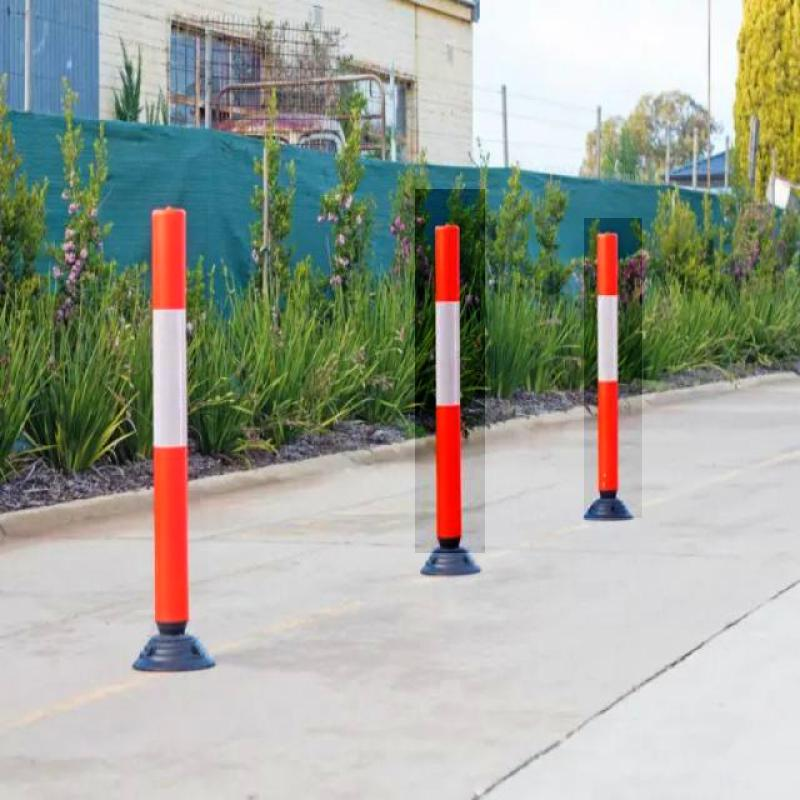pillar: (150, 199, 208, 640), (415, 189, 485, 553), (584, 218, 642, 518)
